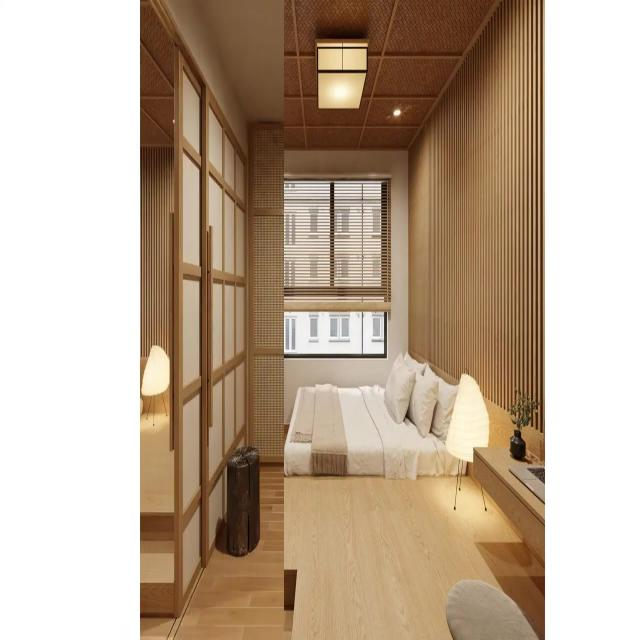obstacle: (286, 350, 466, 478), (472, 442, 544, 570)
